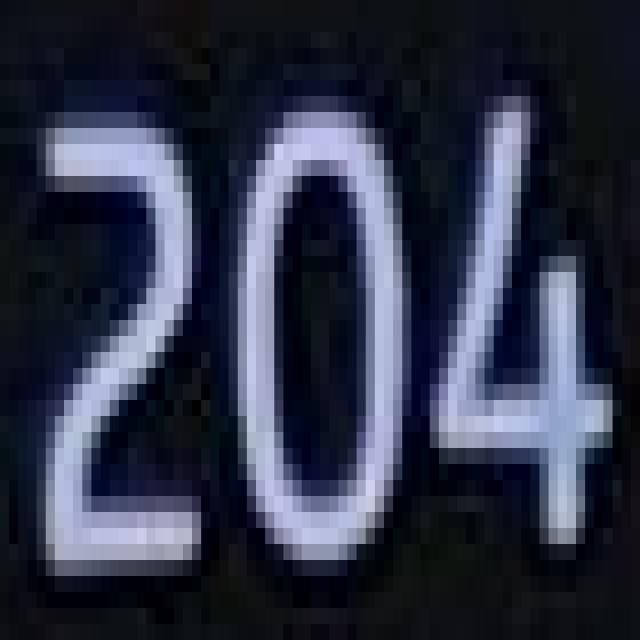character: (422, 78, 622, 573), (224, 96, 419, 594), (25, 99, 211, 586)
